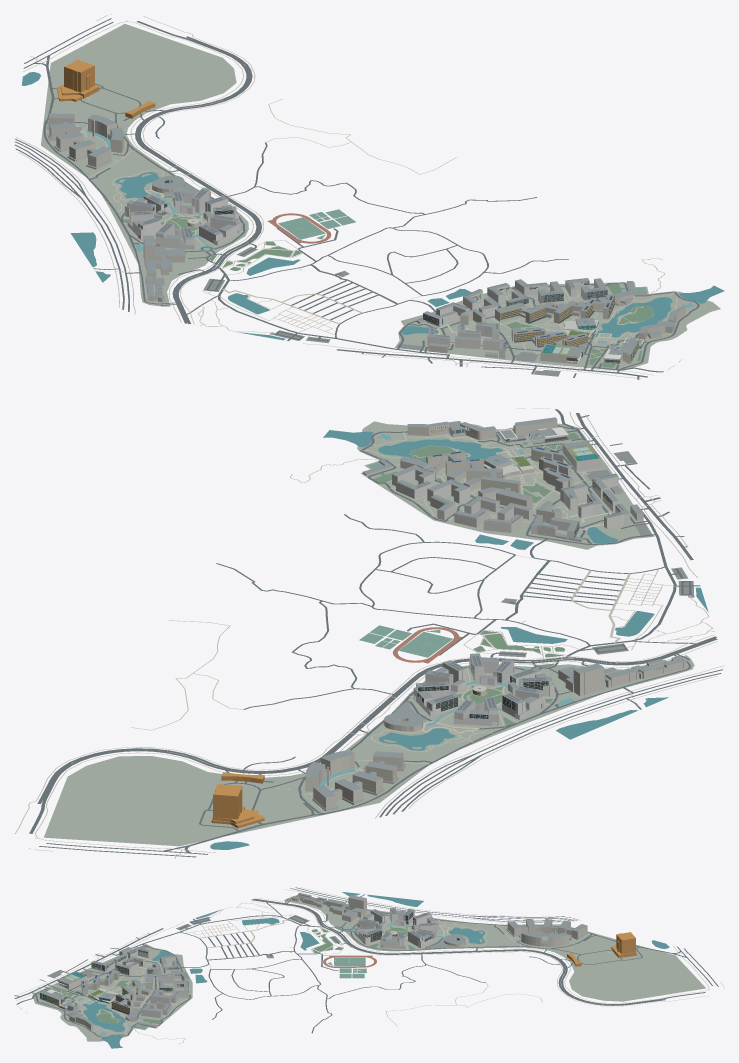
The picture shows the model from 3 angles, top to bottom: view 1: azimuth 30°, elevation 25°; view 2: azimuth 150°, elevation 25°; view 3: azimuth 270°, elevation 25°; orthographic projection. The views are drawn at different scales.
Visible parts, largest first — view 1: datum | phase 2, road | phase context, datum | phase 1, path | phase context, water | phase context, road | phase 2, water | phase 1, road | phase 1, sport | phase context, 未命名建筑 19971852 | relation_19971852, path | phase 1, vegetation | phase 1 (+9 smaller); view 2: datum | phase 2, road | phase context, datum | phase 1, path | phase context, water | phase context, road | phase 2, water | phase 1, 未命名建筑 19971852 | relation_19971852, road | phase 1, sport | phase context, path | phase 1, 文化创意群落 | way_664093290 (+12 smaller); view 3: datum | phase 2, road | phase context, datum | phase 1, path | phase context, water | phase context, road | phase 2, water | phase 1, road | phase 1, 未命名建筑 19971852 | relation_19971852, sport | phase context, path | phase 1, vegetation | phase 1 (+14 smaller).
Part boxes in pixels (x1,y1,x2,y2): datum | phase 2: (41,24,248,306); road | phase context: (14,18,663,379); datum | phase 1: (395,282,720,370); path | phase context: (15,14,682,378); water | phase context: (21,72,724,340); road | phase 2: (43,73,245,305); water | phase 1: (402,287,706,337); road | phase 1: (397,282,699,370); sport | phase context: (278,209,355,239); 未命名建筑 19971852 | relation_19971852: (143,235,185,279); path | phase 1: (436,286,688,359); vegetation | phase 1: (507,283,653,367); datum | phase 2: (44,655,694,846); road | phase context: (29,409,722,857); datum | phase 1: (357,421,653,549); path | phase context: (14,408,724,858); water | phase context: (210,430,708,849); road | phase 2: (199,656,690,840); water | phase 1: (358,431,617,543); 未命名建筑 19971852 | relation_19971852: (558,663,637,695); road | phase 1: (360,424,652,544); sport | phase context: (359,625,452,657); path | phase 1: (361,432,611,529); 文化创意群落 | way_664093290: (407,421,496,439); datum | phase 2: (283,895,705,1001); road | phase context: (14,887,718,1033); datum | phase 1: (32,944,192,1041); path | phase context: (14,887,724,1043); water | phase context: (105,892,669,1048); road | phase 2: (286,896,660,965); water | phase 1: (83,950,171,1040); road | phase 1: (33,944,190,1037); 未命名建筑 19971852 | relation_19971852: (326,895,366,921); sport | phase context: (327,957,366,978); path | phase 1: (61,956,187,1035); vegetation | phase 1: (41,980,161,1024).
Bounding box in the file's own units: 1244 × 61.45 × 2316.
